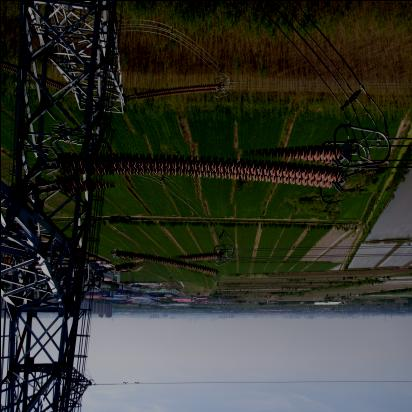insulator: (47, 131, 347, 210), (112, 245, 220, 282)
